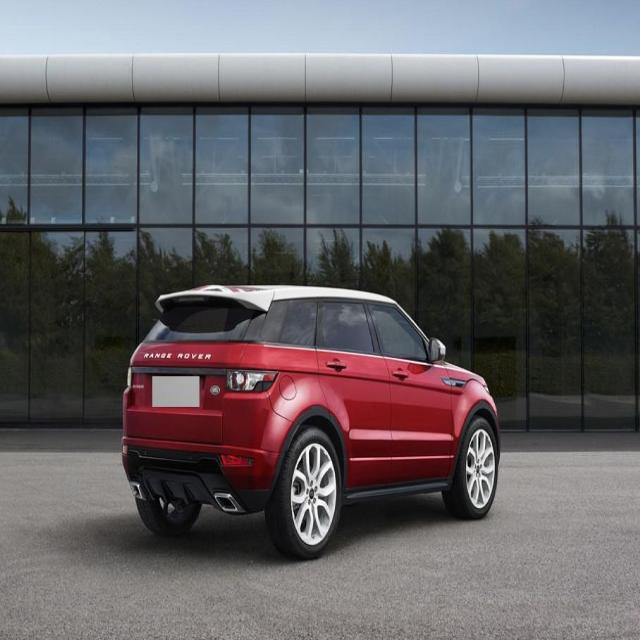back_glass: (138, 296, 255, 346)
back_left_side_light: (125, 365, 134, 390)
back_right_side_light: (224, 366, 280, 396)
door: (309, 298, 396, 492)
front_right_side_door: (364, 298, 454, 490)
front_right_side_mirror: (427, 336, 446, 365)
rear_bumper: (119, 432, 277, 514)
wheel: (270, 428, 342, 560), (446, 418, 498, 516), (134, 496, 202, 535)
